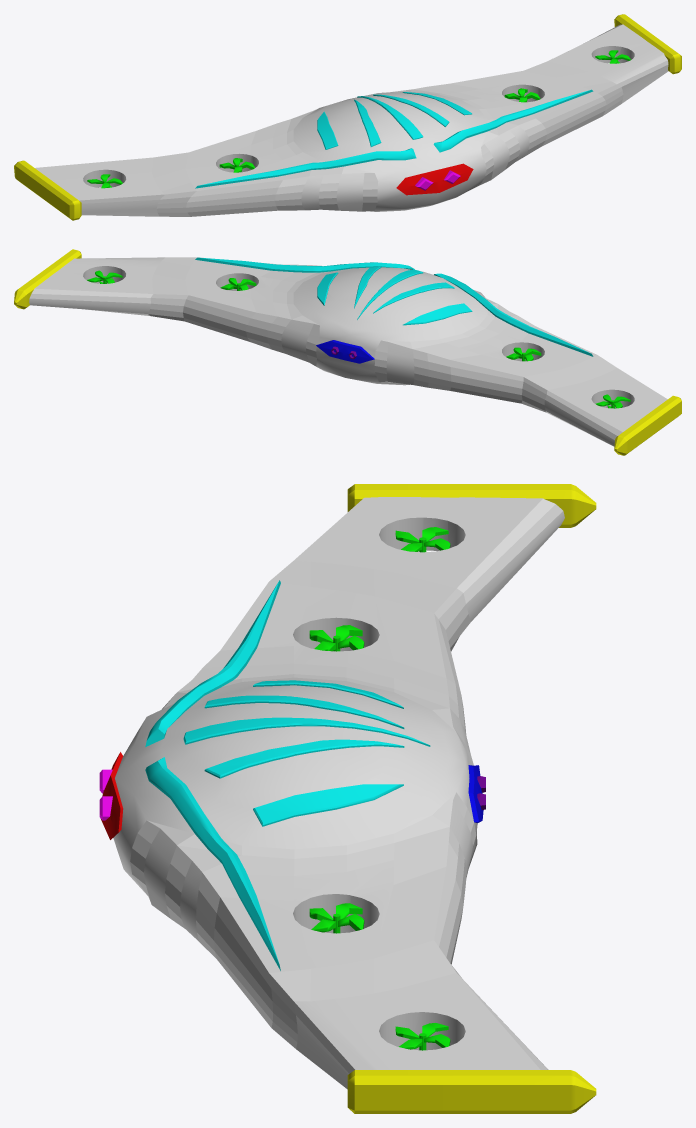
File: Nave_poligonal.fbx
The picture shows the model from 3 angles, top to bottom: view 1: azimuth 30°, elevation 25°; view 2: azimuth 150°, elevation 25°; view 3: azimuth 270°, elevation 25°; orthographic projection. The views are drawn at different scales.
Parts seen in each view (by area): view 1: nave; view 2: nave; view 3: nave, aspa1 (×2).
Boxes of the visible parts, box(x1,y1,x2,y2) form: nave: box(14, 14, 681, 220); nave: box(14, 249, 681, 455); nave: box(99, 484, 596, 1113); aspa1 (×2): box(309, 625, 364, 932).
Size of the model in its own units: 15.91 by 2.02 by 5.59.
